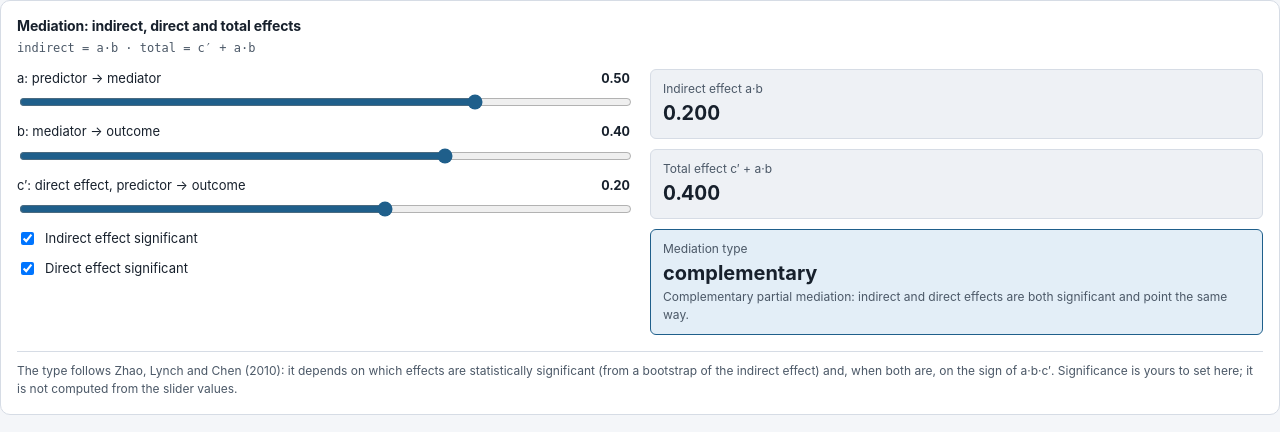
Test: demos show live numbers from the formulas › mediation: effects and the Zhao et al. type follow the toggles and signs
Set the slider labelled "c′: direct effect, predictor → outcome" to "-0.2". click: coordinates (266, 209)
box: [19,201,632,217]
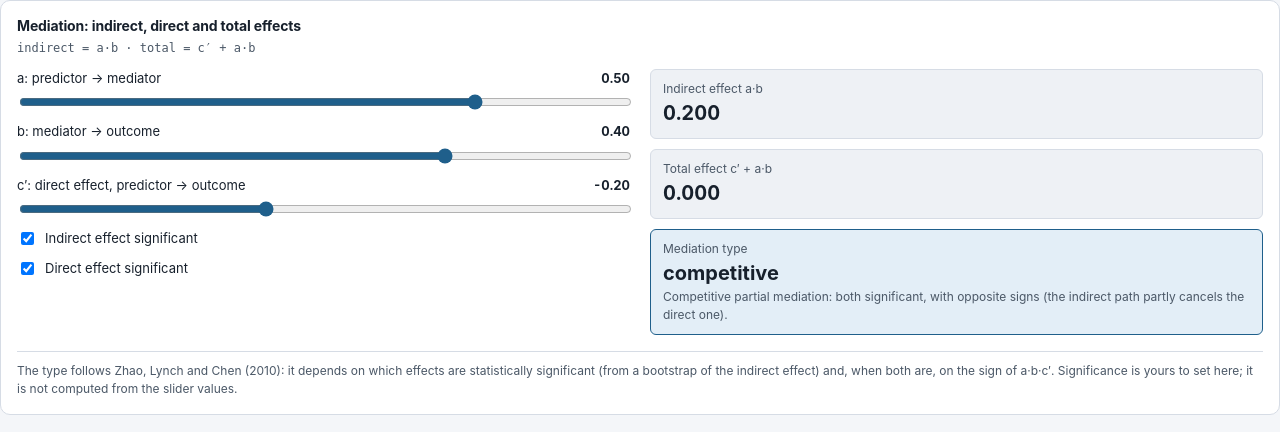
expect the text with class "demo-readout__value" reads "competitive": met, box [663,260,779,284]
Click the checkbox labelled "Direct effect significant". click: coordinates (28, 268)
box: [21,262,34,275]
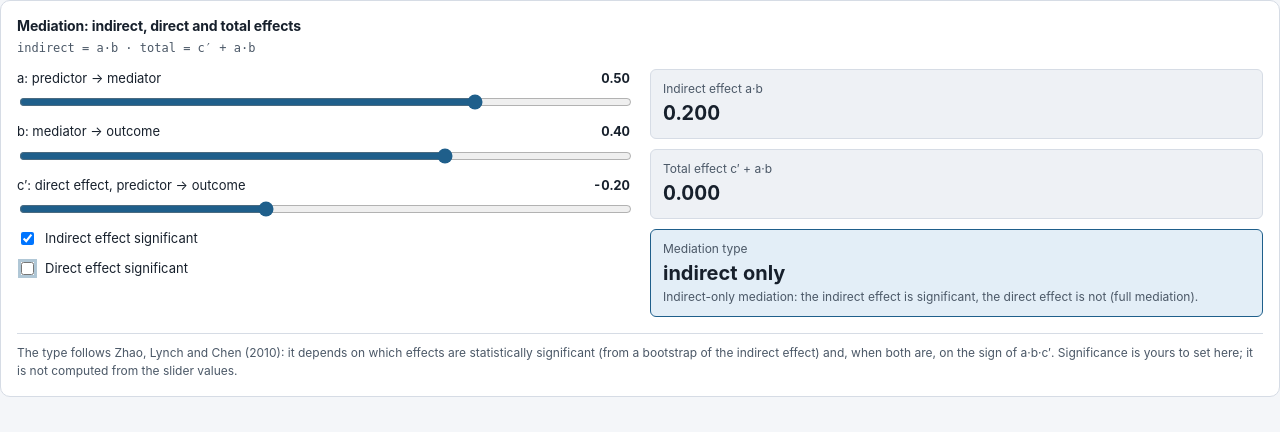
expect the text with class "demo-readout__value" reads "indirect only": met, box [663,260,785,284]
Click the checkbox labelled "Indirect effect significant". click: coordinates (28, 239)
box: [21,232,34,245]
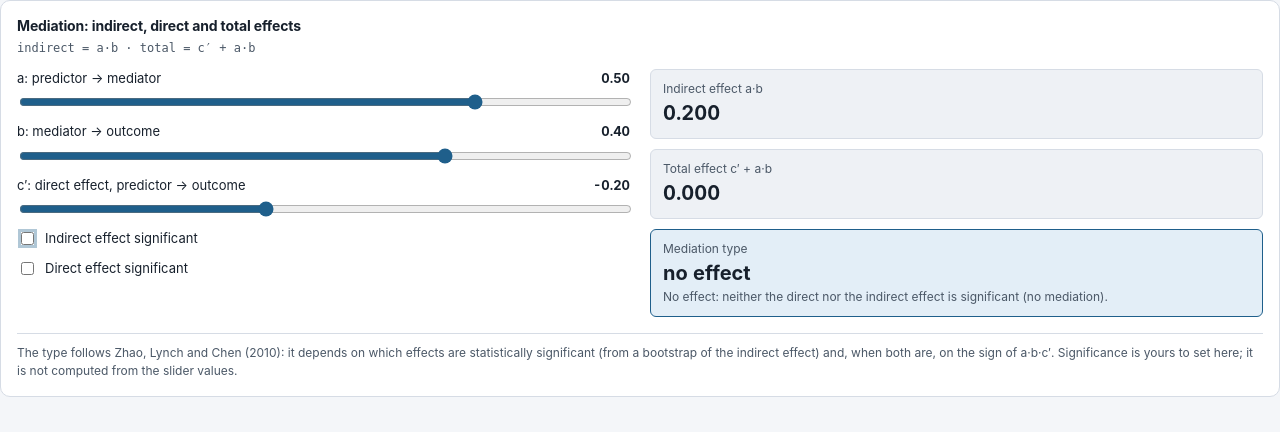
expect the text with class "demo-readout__value" reads "no effect": met, box [663,260,751,284]
Click the checkbox labelled "Direct effect significant". click: coordinates (28, 268)
box: [21,262,34,275]
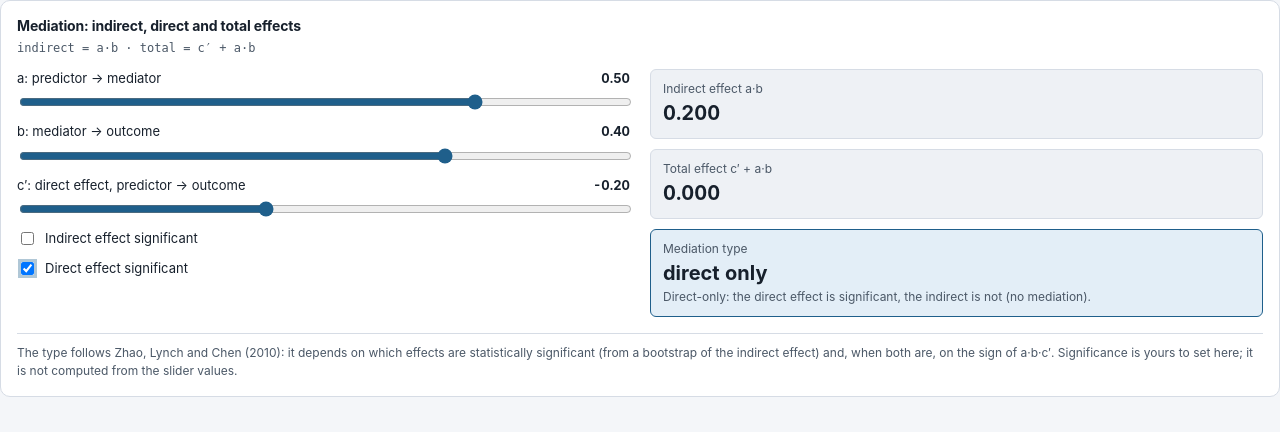
expect the text with class "demo-readout__value" reads "direct only": met, box [663,260,768,284]
